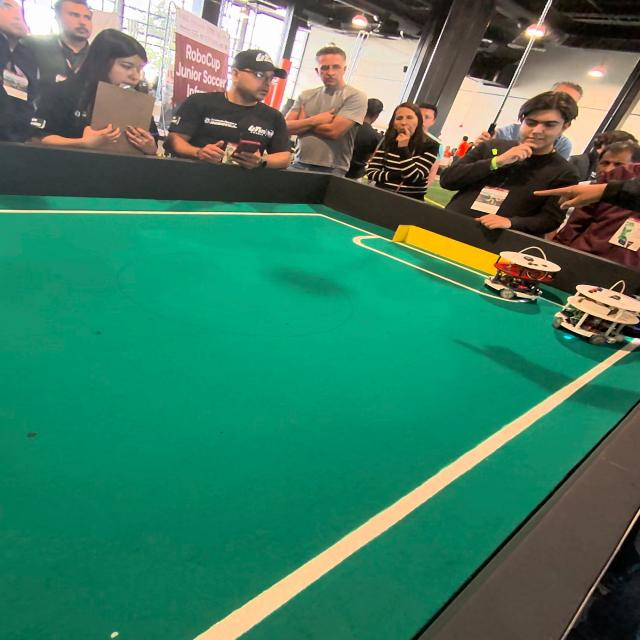Robot: (550, 279, 637, 355), (482, 246, 553, 311)
